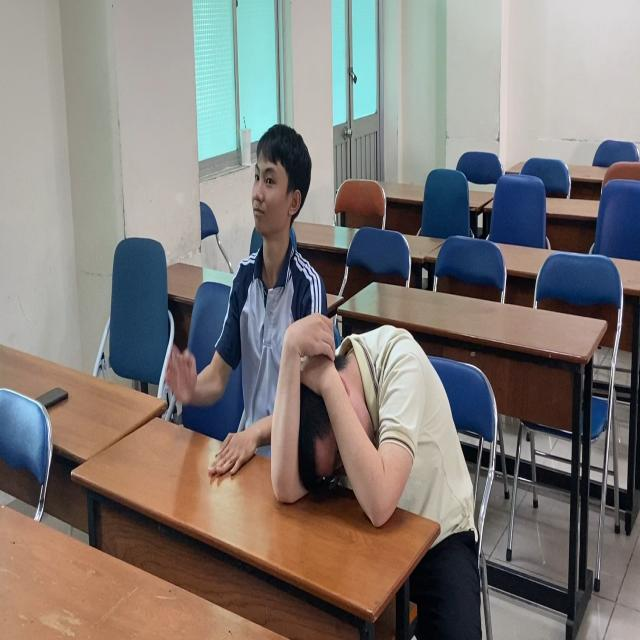sleep: (270, 310, 476, 526)
